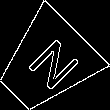N_SW: (14, 32, 78, 96)
